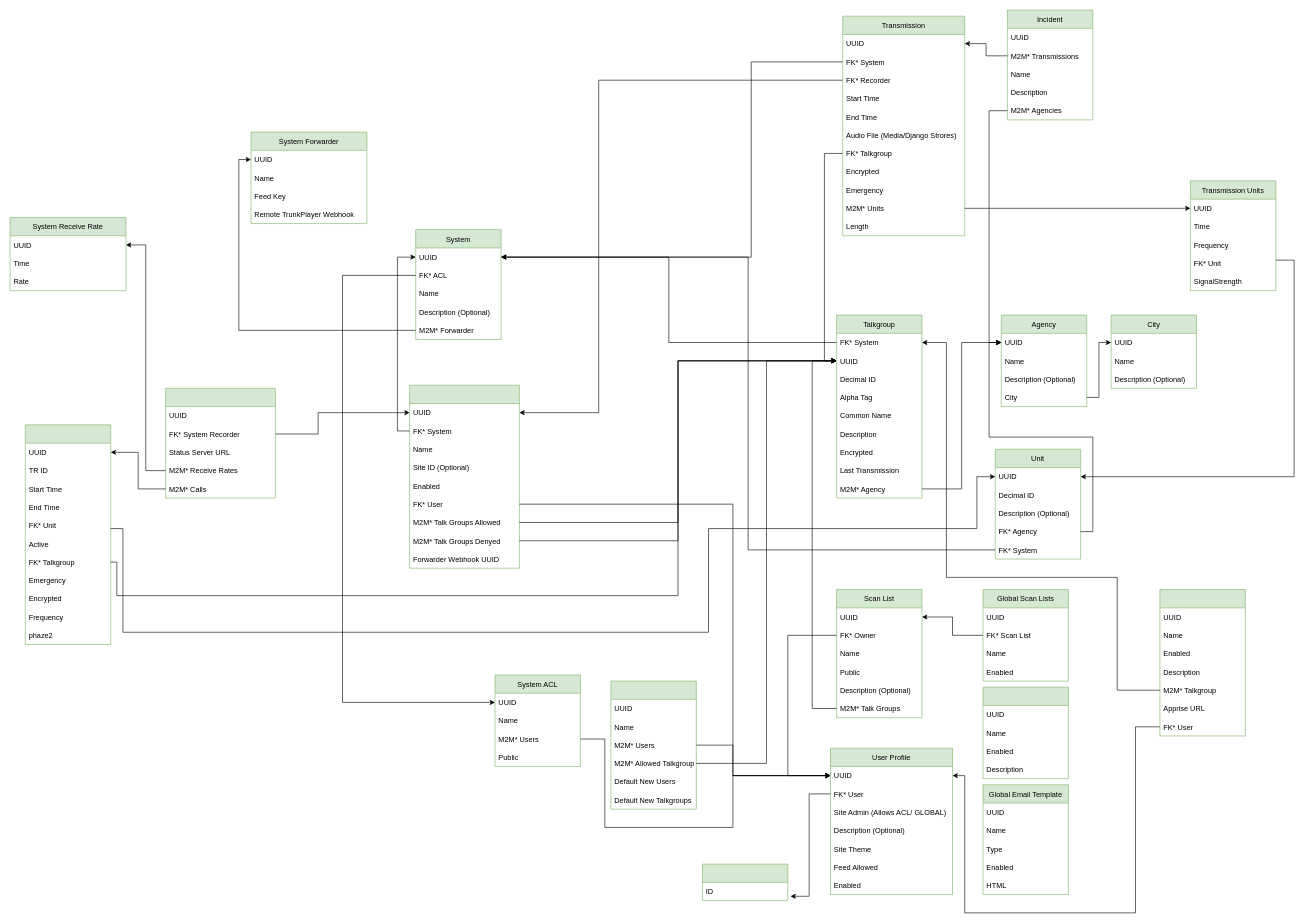
The diagram is 1304 pixels wide and 923 high, and some of its shapes have lost their labels. The shapes that lost their labels are listed below. From the top down, each one's box as (x1, y1, x2, y2) in pixels, then its label:
(165, 388, 275, 498): System Recorder Metrics
(409, 385, 519, 568): System Recorder
(25, 424, 111, 644): Call
(1159, 589, 1245, 736): Talkgroup Activity Alert
(610, 680, 696, 809): Tallkgroup ACL
(982, 687, 1068, 779): Global Announcement
(702, 863, 788, 901): DJANGO USER
